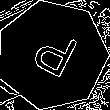P_SW: (24, 25, 81, 86)
